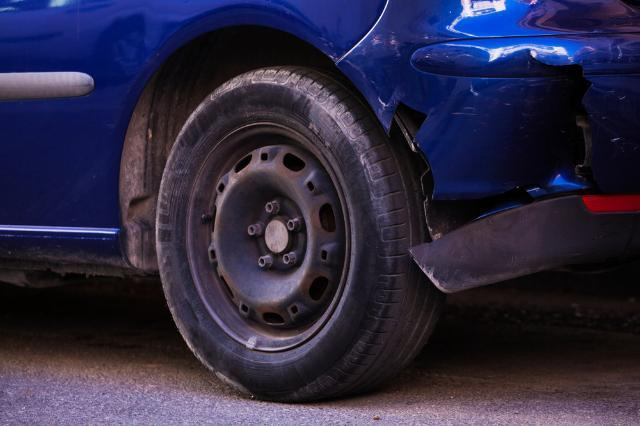crack: (530, 50, 598, 189)
dent: (91, 10, 185, 116)
dislocated part: (401, 175, 640, 295)
no part: (389, 104, 437, 213)
